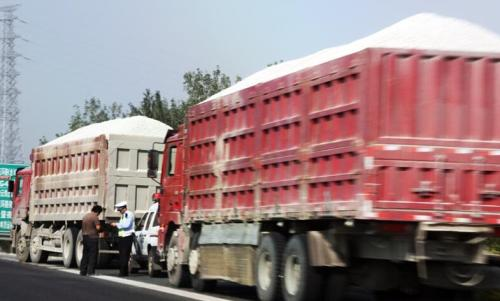chaozhai: (159, 6, 497, 301), (8, 102, 159, 278)
